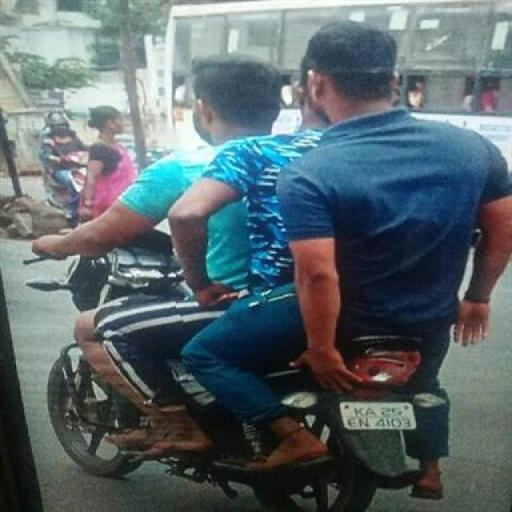tripple riding: (26, 20, 512, 407)
